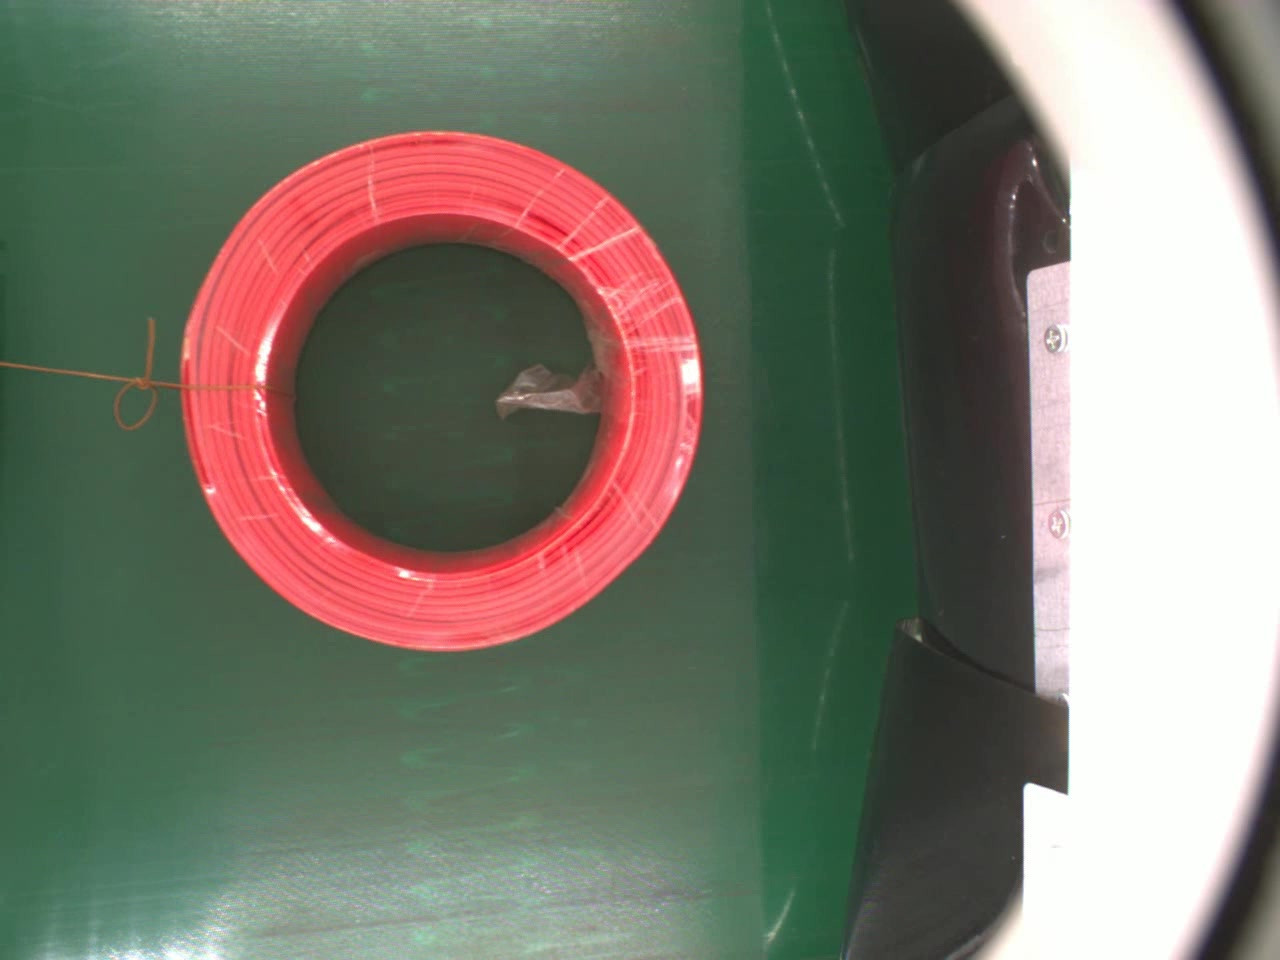red: (181, 125, 711, 655)
